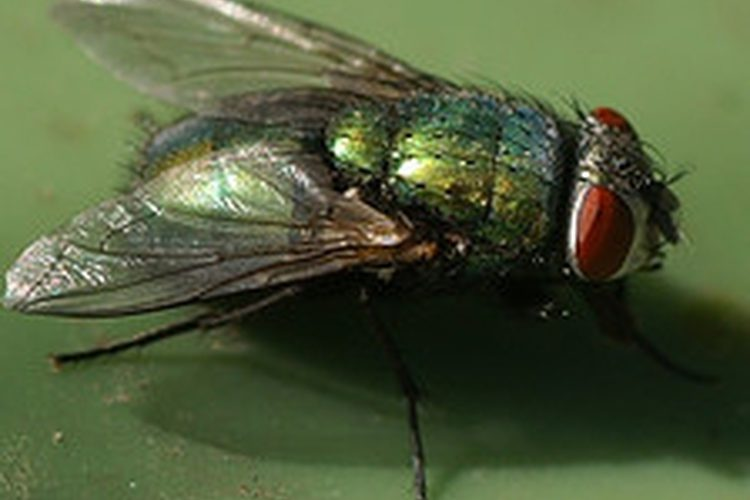house fly: (1, 1, 721, 497)
